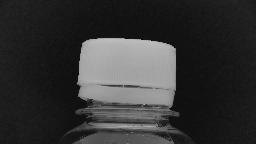Broken Ring: (68, 79, 184, 115)
